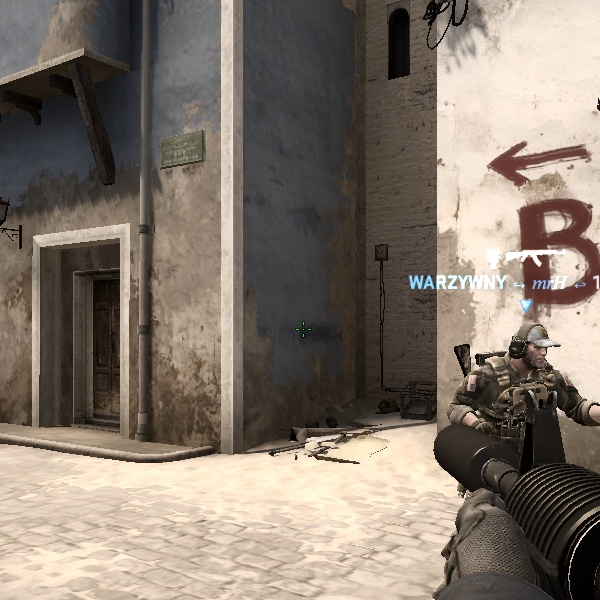ct_body: (444, 310, 593, 590)
ct_head: (493, 316, 560, 381)
